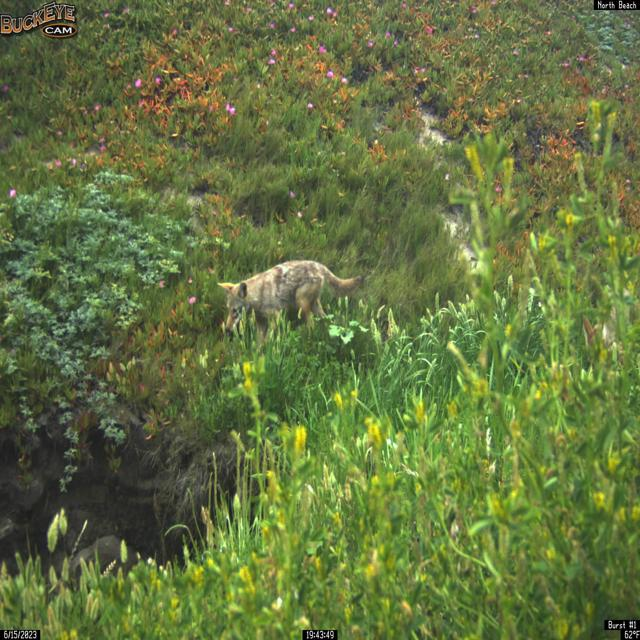coyote: (216, 259, 367, 346)
